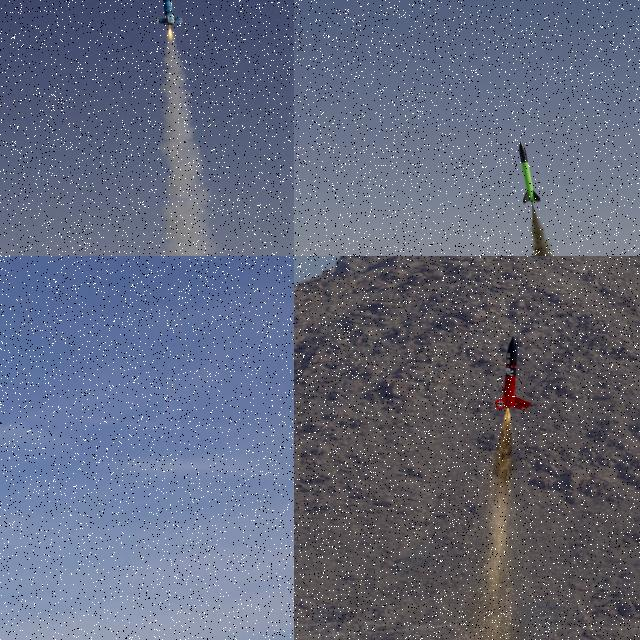Rocket: (493, 336, 532, 412), (519, 140, 541, 204), (155, 0, 183, 26)
